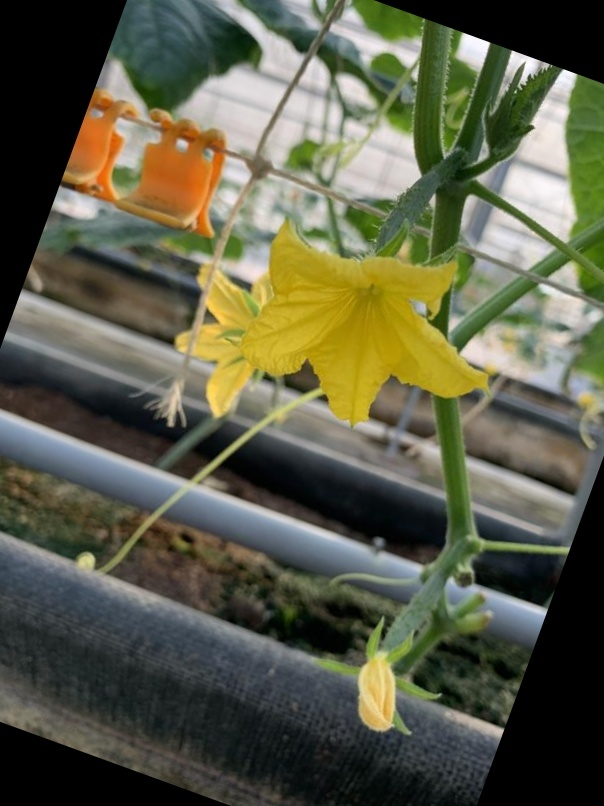flowering: (216, 166, 522, 427)
